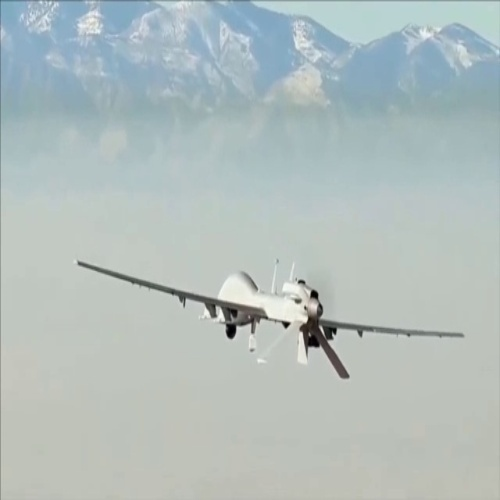uav773: (67, 255, 468, 385)
